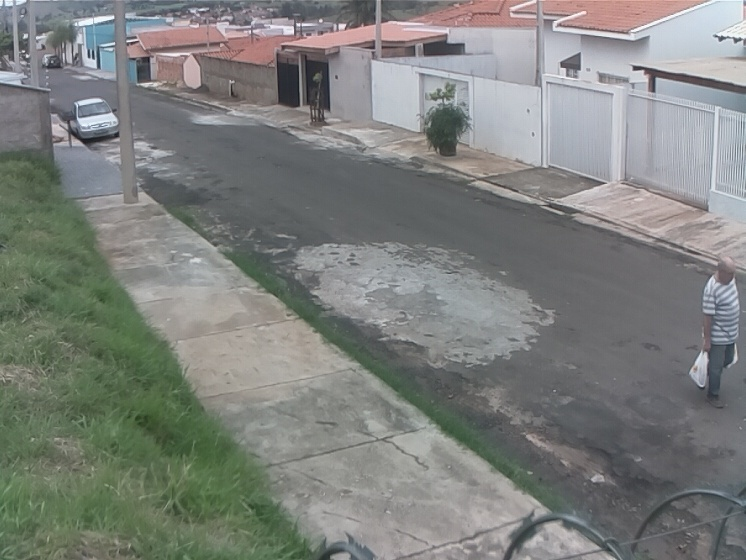person: (700, 256, 741, 406)
